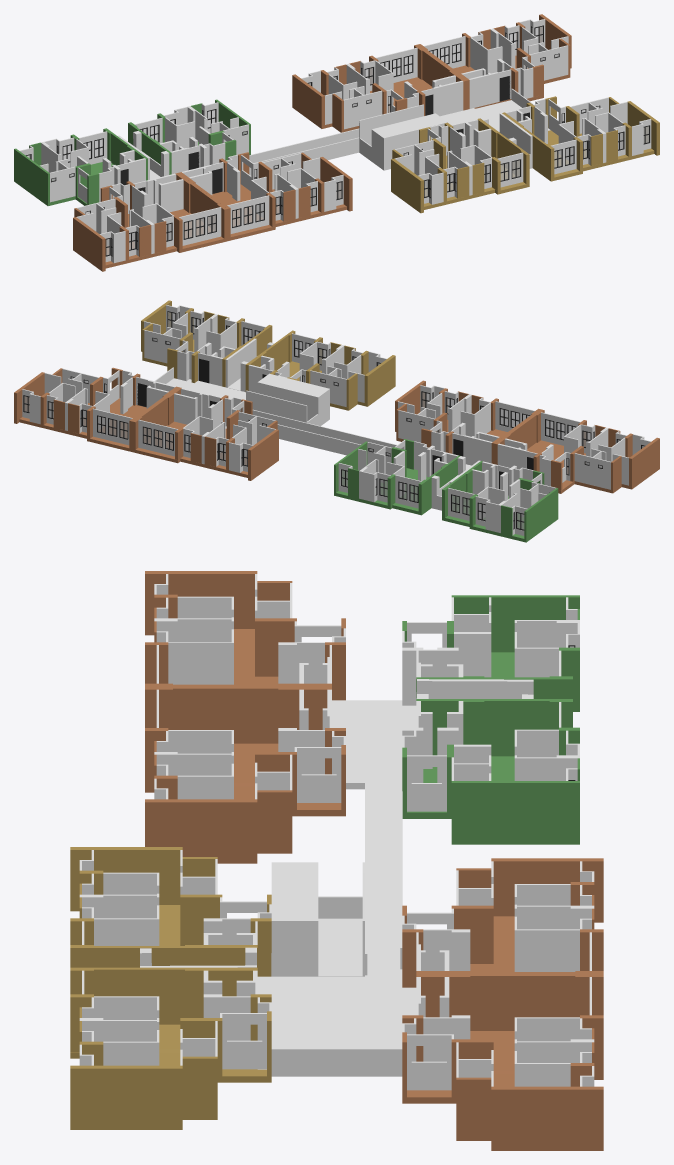
Rendered from cluster2Level.glb.
3 renders of one model, top to bottom at view 1: azimuth 30°, elevation 25°; view 2: azimuth 150°, elevation 25°; view 3: azimuth 270°, elevation 25°, orthographic. The views are drawn at different scales.
Visible parts, largest first — view 1: levelWall, level5room, level4room, levelWindowFrame, level3room, levelGlass; view 2: levelWall, level5room, level3room, level4room, levelWindowFrame, levelGlass; view 3: levelWall, level5room, level4room, level3room.
Part boxes in pixels (x1,y1,x2,y2): levelWall: (19, 19, 651, 263); level5room: (73, 14, 571, 271); level4room: (391, 96, 659, 213); levelWindowFrame: (26, 25, 649, 256); level3room: (14, 99, 250, 205); levelGlass: (27, 26, 648, 255); levelWall: (22, 305, 651, 535); level5room: (14, 367, 659, 493); level3room: (334, 439, 558, 542); level4room: (141, 300, 395, 410); levelWindowFrame: (23, 311, 644, 530); levelGlass: (24, 312, 644, 529); levelWall: (79, 574, 594, 1090); level5room: (145, 571, 603, 1150); level4room: (70, 847, 271, 1129); level3room: (402, 595, 579, 844).
Bounding box in the file's own units: 52.47 × 2.94 × 22.79.
